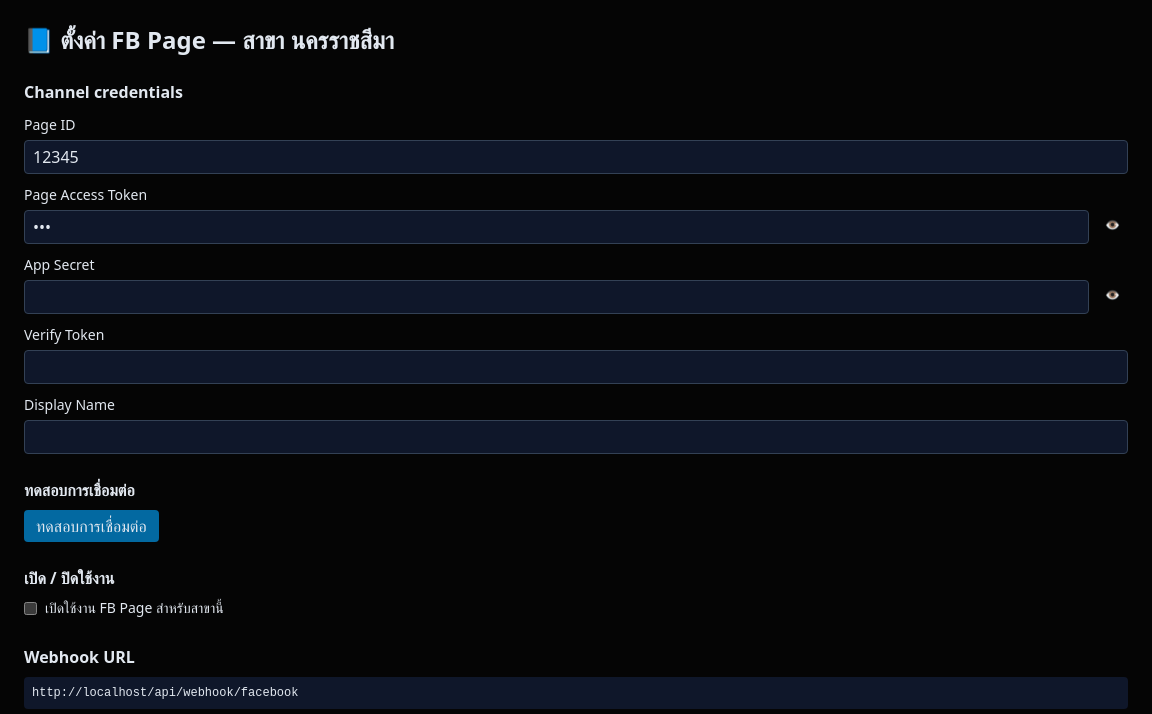
it: V75 Item 3 — FbSettingsTab UI › FST1.4 — test connection surfaces FB-side error reason
Click the button "ทดสอบการเชื่อมต่อ" at (91, 526), box left=24, top=510, right=159, bottom=542
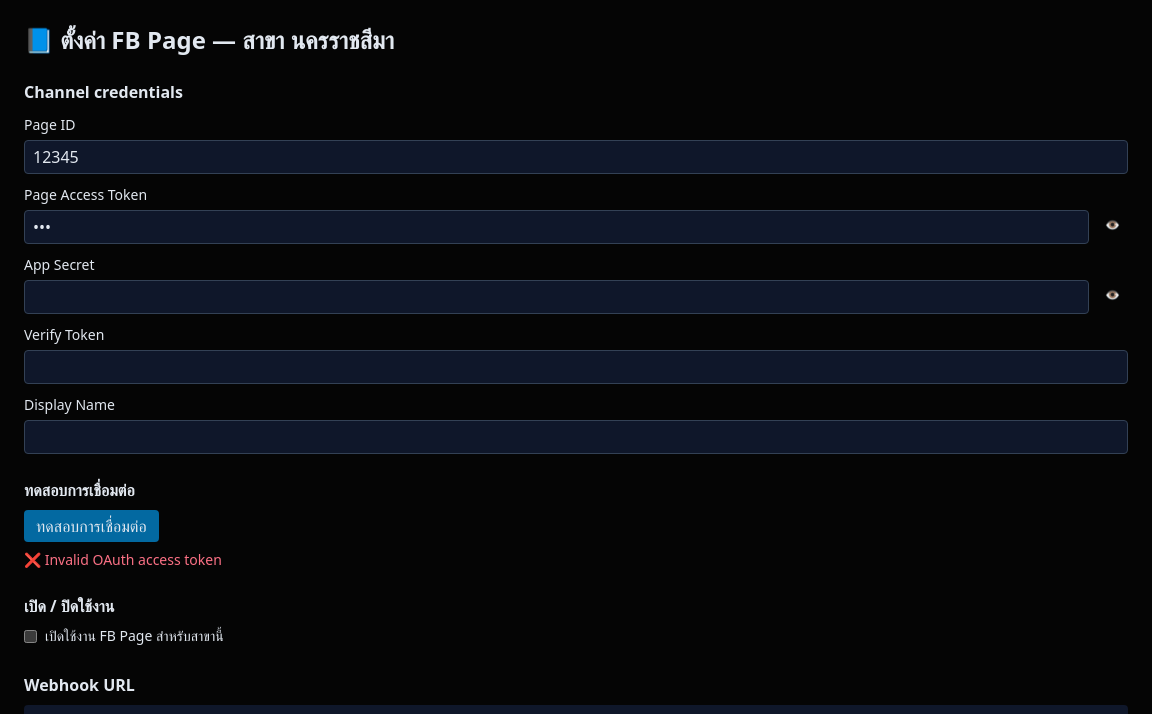
Now the text with test id "fb-test-result" shows "Invalid OAuth", box left=24, top=550, right=222, bottom=569
